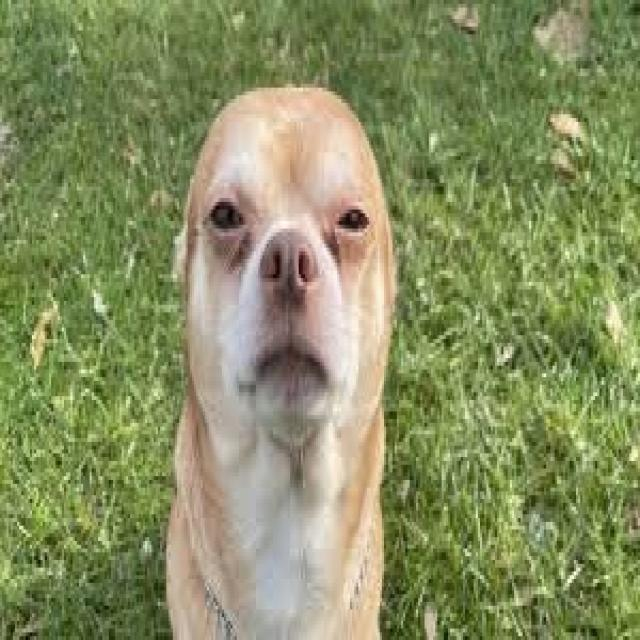dog: (166, 88, 395, 636)
